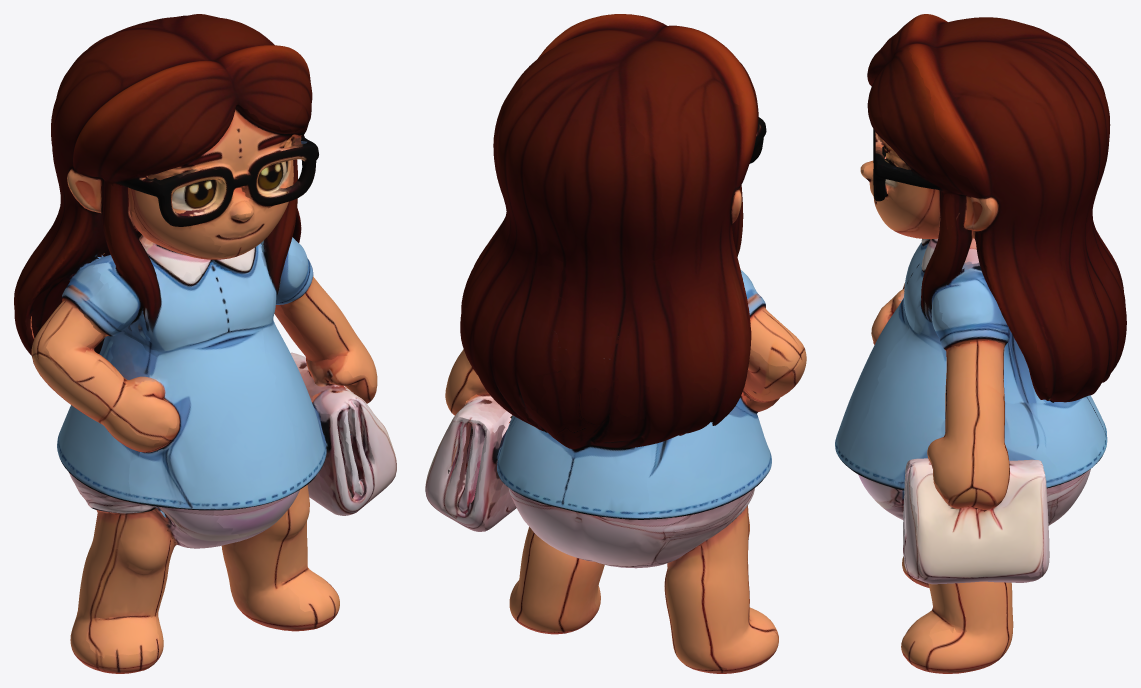
File: anadoll.glb
3 renders of one model, left to right at view 1: azimuth 30°, elevation 25°; view 2: azimuth 150°, elevation 25°; view 3: azimuth 270°, elevation 25°, orthographic. The views are drawn at different scales.
Parts seen in each view (by area): view 1: temp_mesh.ply; view 2: temp_mesh.ply; view 3: temp_mesh.ply.
Part boxes in pixels (x1,y1,x2,y2): temp_mesh.ply: [14, 14, 396, 673]; temp_mesh.ply: [425, 14, 806, 673]; temp_mesh.ply: [835, 14, 1126, 673].
Size of the model in its own units: 1.17 by 1.97 by 0.8887.
1 material, 1 textured.
